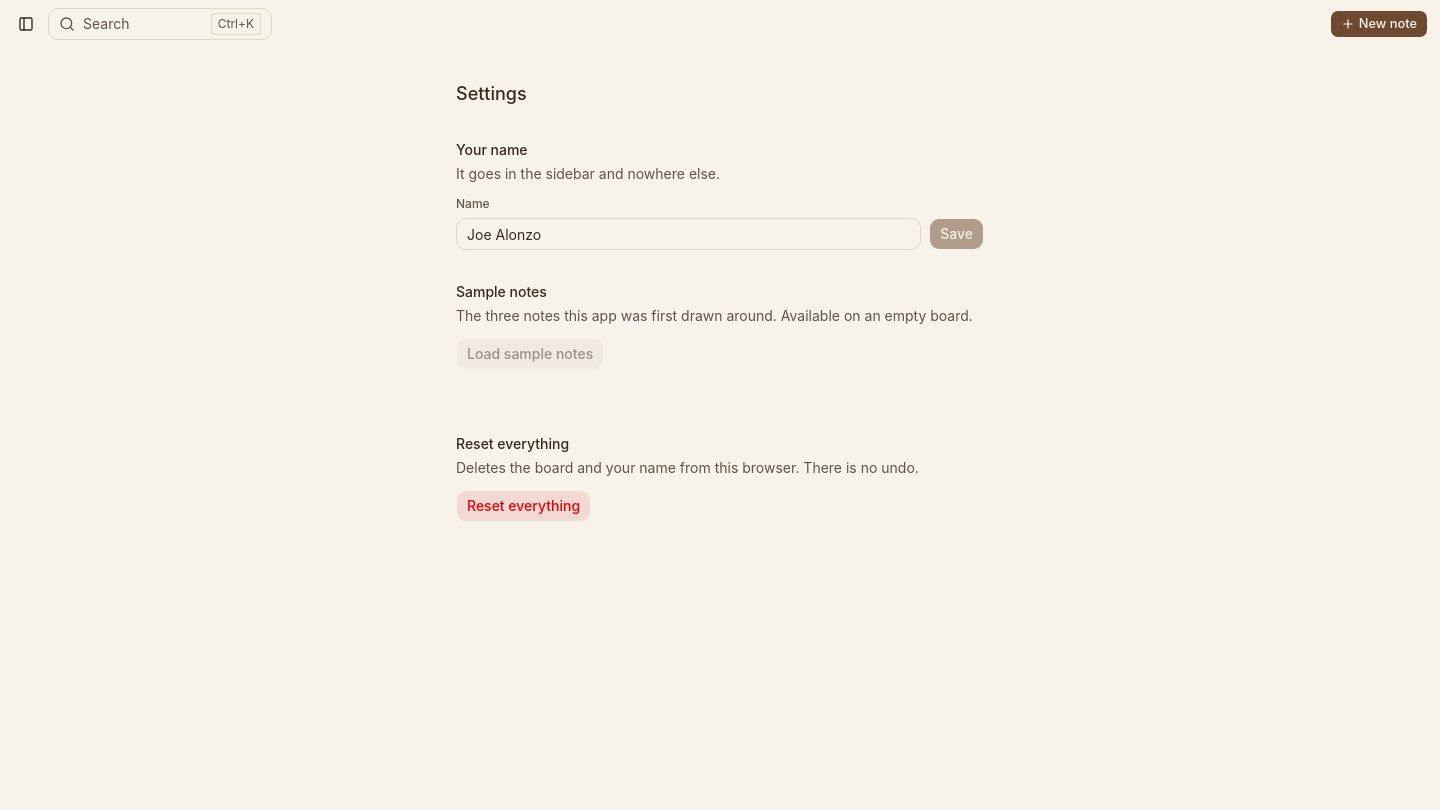
Test: T85 · reset › says note rather than notes for a board of one
What coordinates should you click on to do the following:
click the button "Reset everything"
I would click on:
 (524, 506)
Its box is left=456, top=490, right=591, bottom=522.
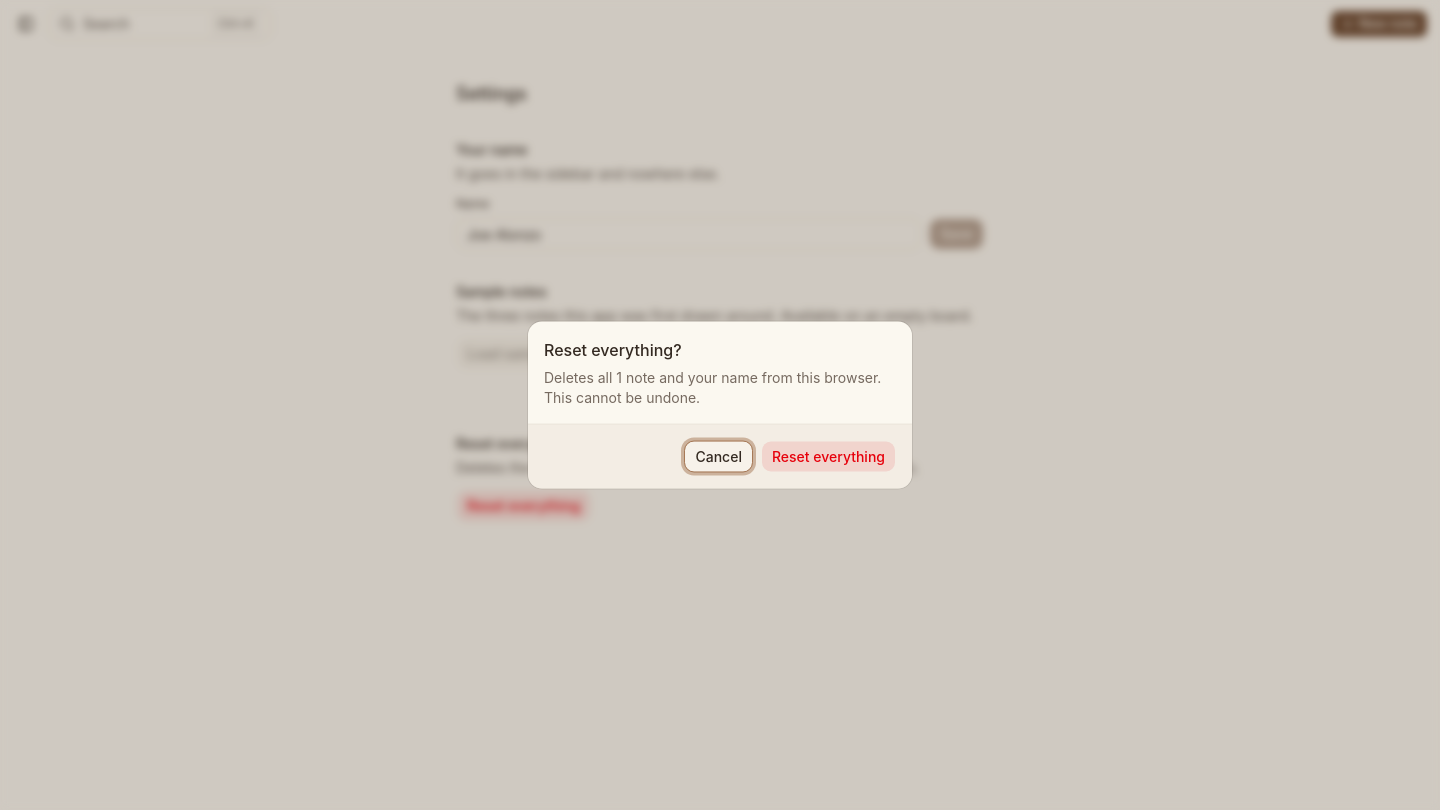
Expected: the text "all 1 note and" is shown, left=544, top=368, right=896, bottom=408
